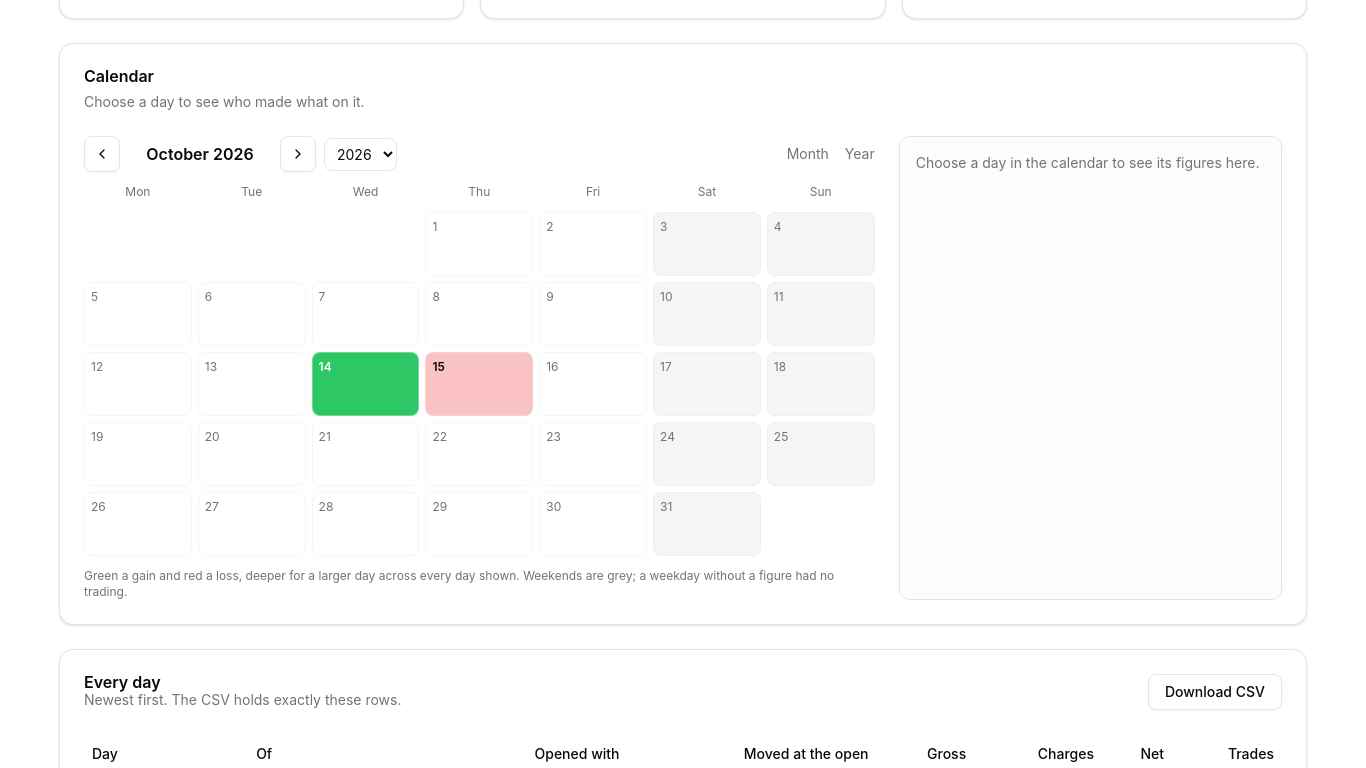
Test: PnlDashboard › opens a day chosen in the calendar beside it
(page scrolled)
Click the button named "2026-10-15: net" at x=479, y=384, box [425,352,533,416]
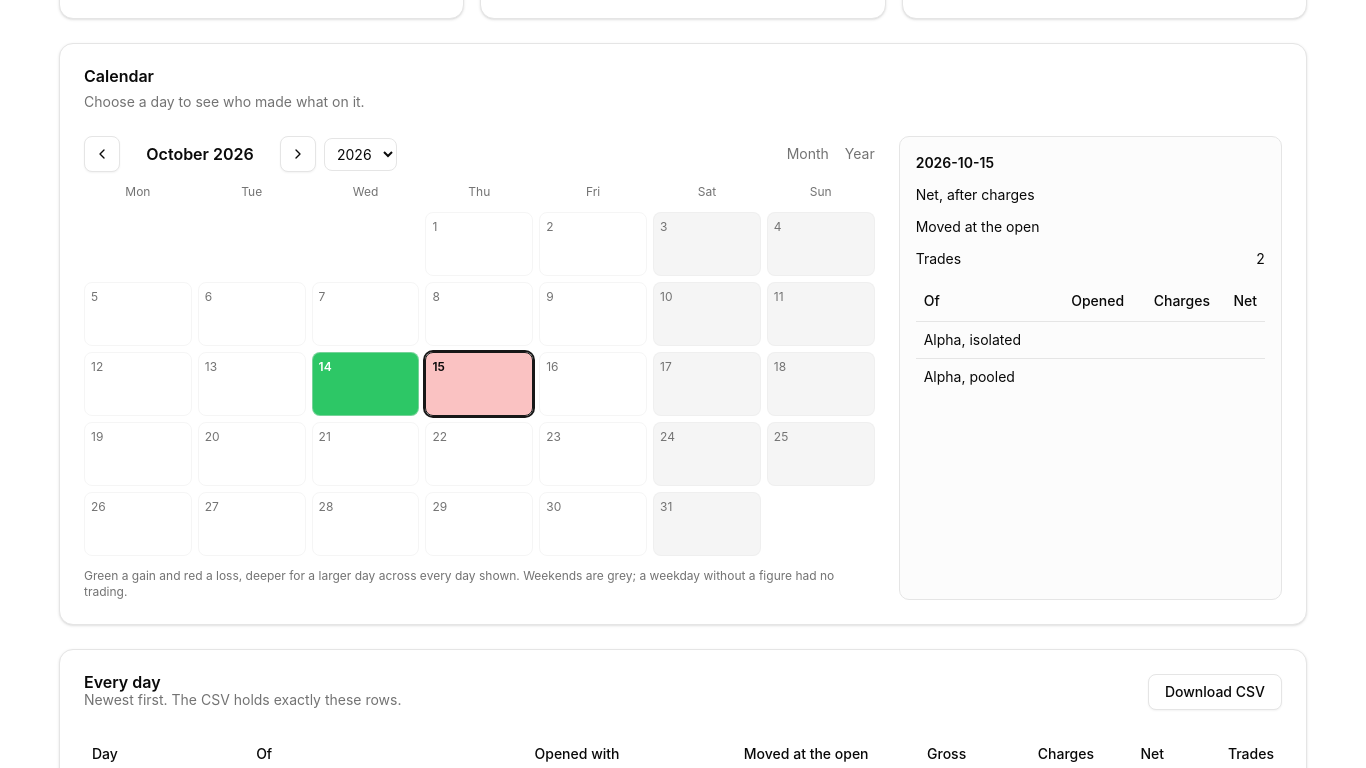
Expected: the heading "2026-10-15" is shown, [916,154,994,171]
Expected: the text "Alpha, isolated" is shown, [916,321,1050,358]
Expected: the text "Alpha, pooled" is shown, [916,358,1050,394]
